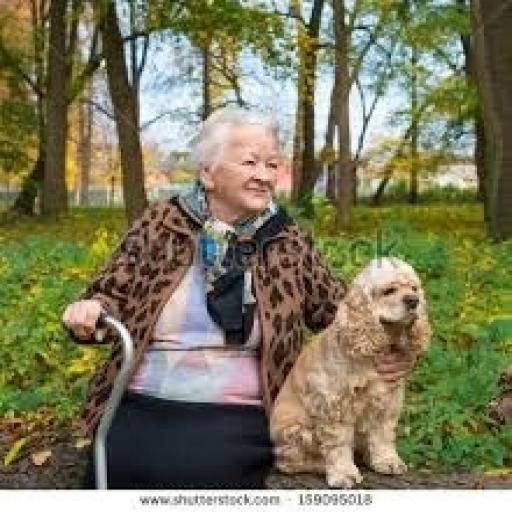sitting: (56, 100, 421, 488)
